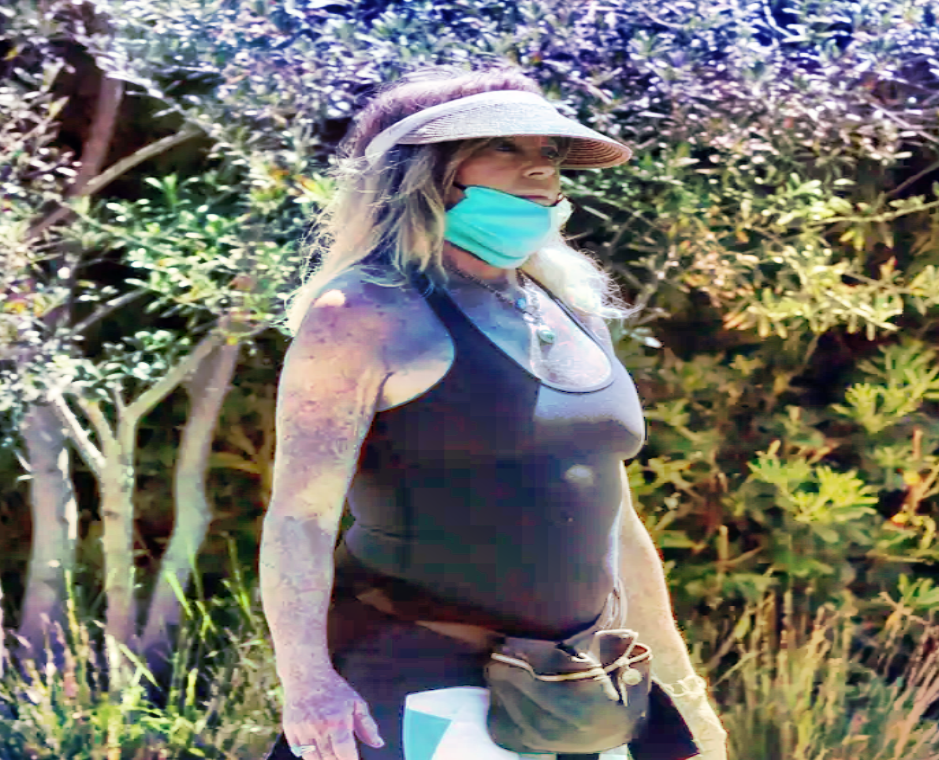mask_weared_incorrect: (349, 72, 617, 275)
